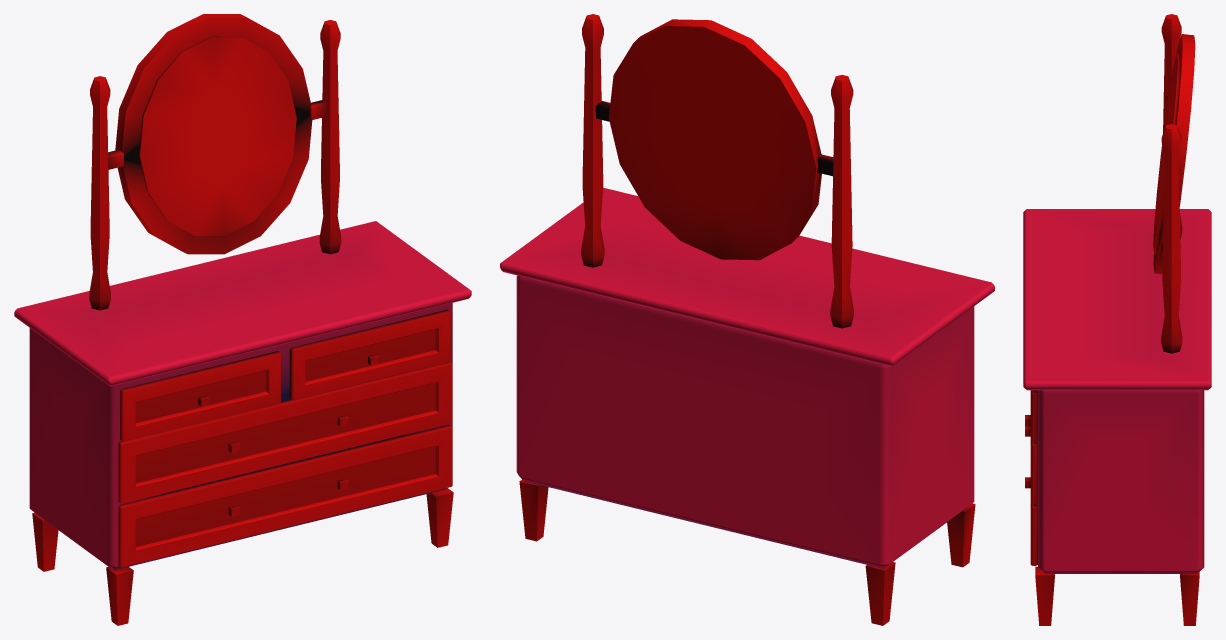
File: CI_Bedroom_Dresser_Mirror.glb
3 views of the same model, side by side, from view 1: azimuth 30°, elevation 25°; view 2: azimuth 150°, elevation 25°; view 3: azimuth 270°, elevation 25° (orthographic). The views are drawn at different scales.
Visible parts, largest first — view 1: CI_Bedroom_Dresser_Mirror; view 2: CI_Bedroom_Dresser_Mirror; view 3: CI_Bedroom_Dresser_Mirror.
Part boxes in pixels (bbox=[...]): CI_Bedroom_Dresser_Mirror: bbox=[14, 14, 471, 625]; CI_Bedroom_Dresser_Mirror: bbox=[500, 14, 994, 625]; CI_Bedroom_Dresser_Mirror: bbox=[1023, 14, 1211, 625].
Bounding box in the file's own units: 1.14 × 1.54 × 0.52.
